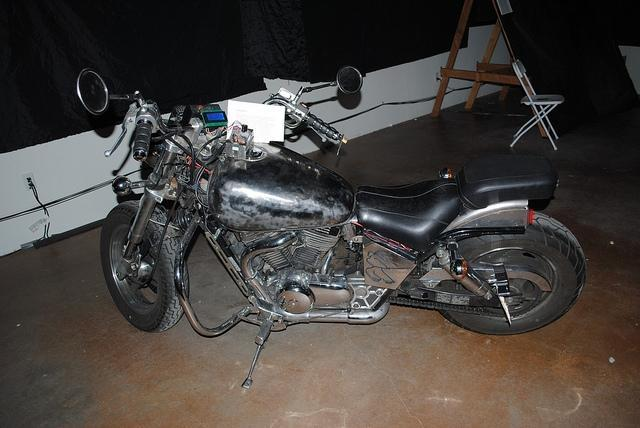motorcycle: (75, 64, 595, 390)
